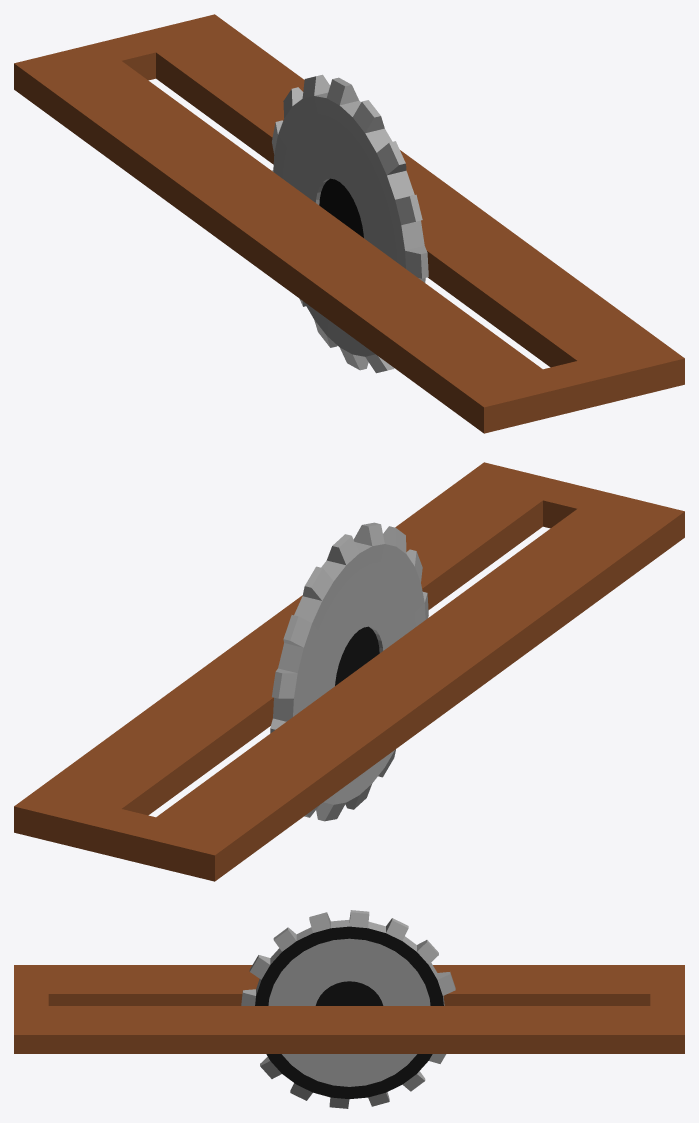
File: wheelofpain.glb
3 views of the same model, one above another, from view 1: azimuth 30°, elevation 25°; view 2: azimuth 150°, elevation 25°; view 3: azimuth 270°, elevation 25° (orthographic). The views are drawn at different scales.
Visible parts, largest first — view 1: base, wheel; view 2: base, wheel; view 3: base, wheel.
Part boxes in pixels (box(x1,y1,x2,y2)): base: box(14, 14, 684, 433); wheel: box(271, 74, 428, 373); base: box(14, 462, 684, 881); wheel: box(270, 522, 428, 821); base: box(14, 965, 684, 1053); wheel: box(241, 910, 455, 1108).
Size of the model in its own units: 1.17 by 1.53 by 4.72.
